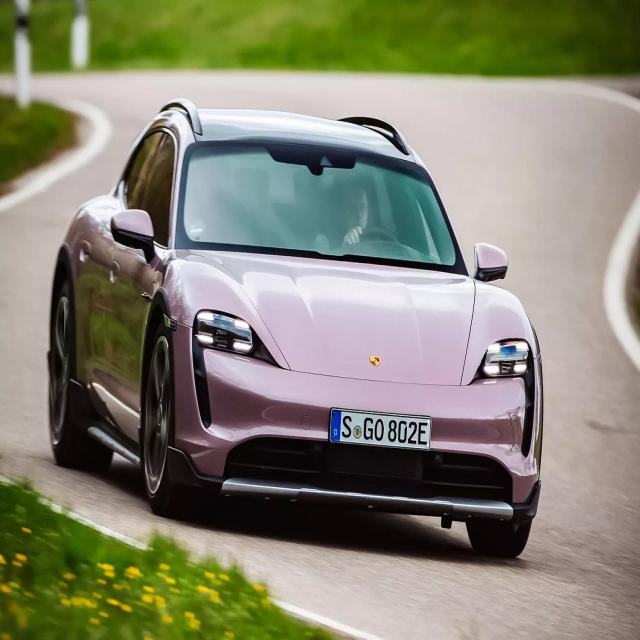car: (46, 96, 545, 558)
